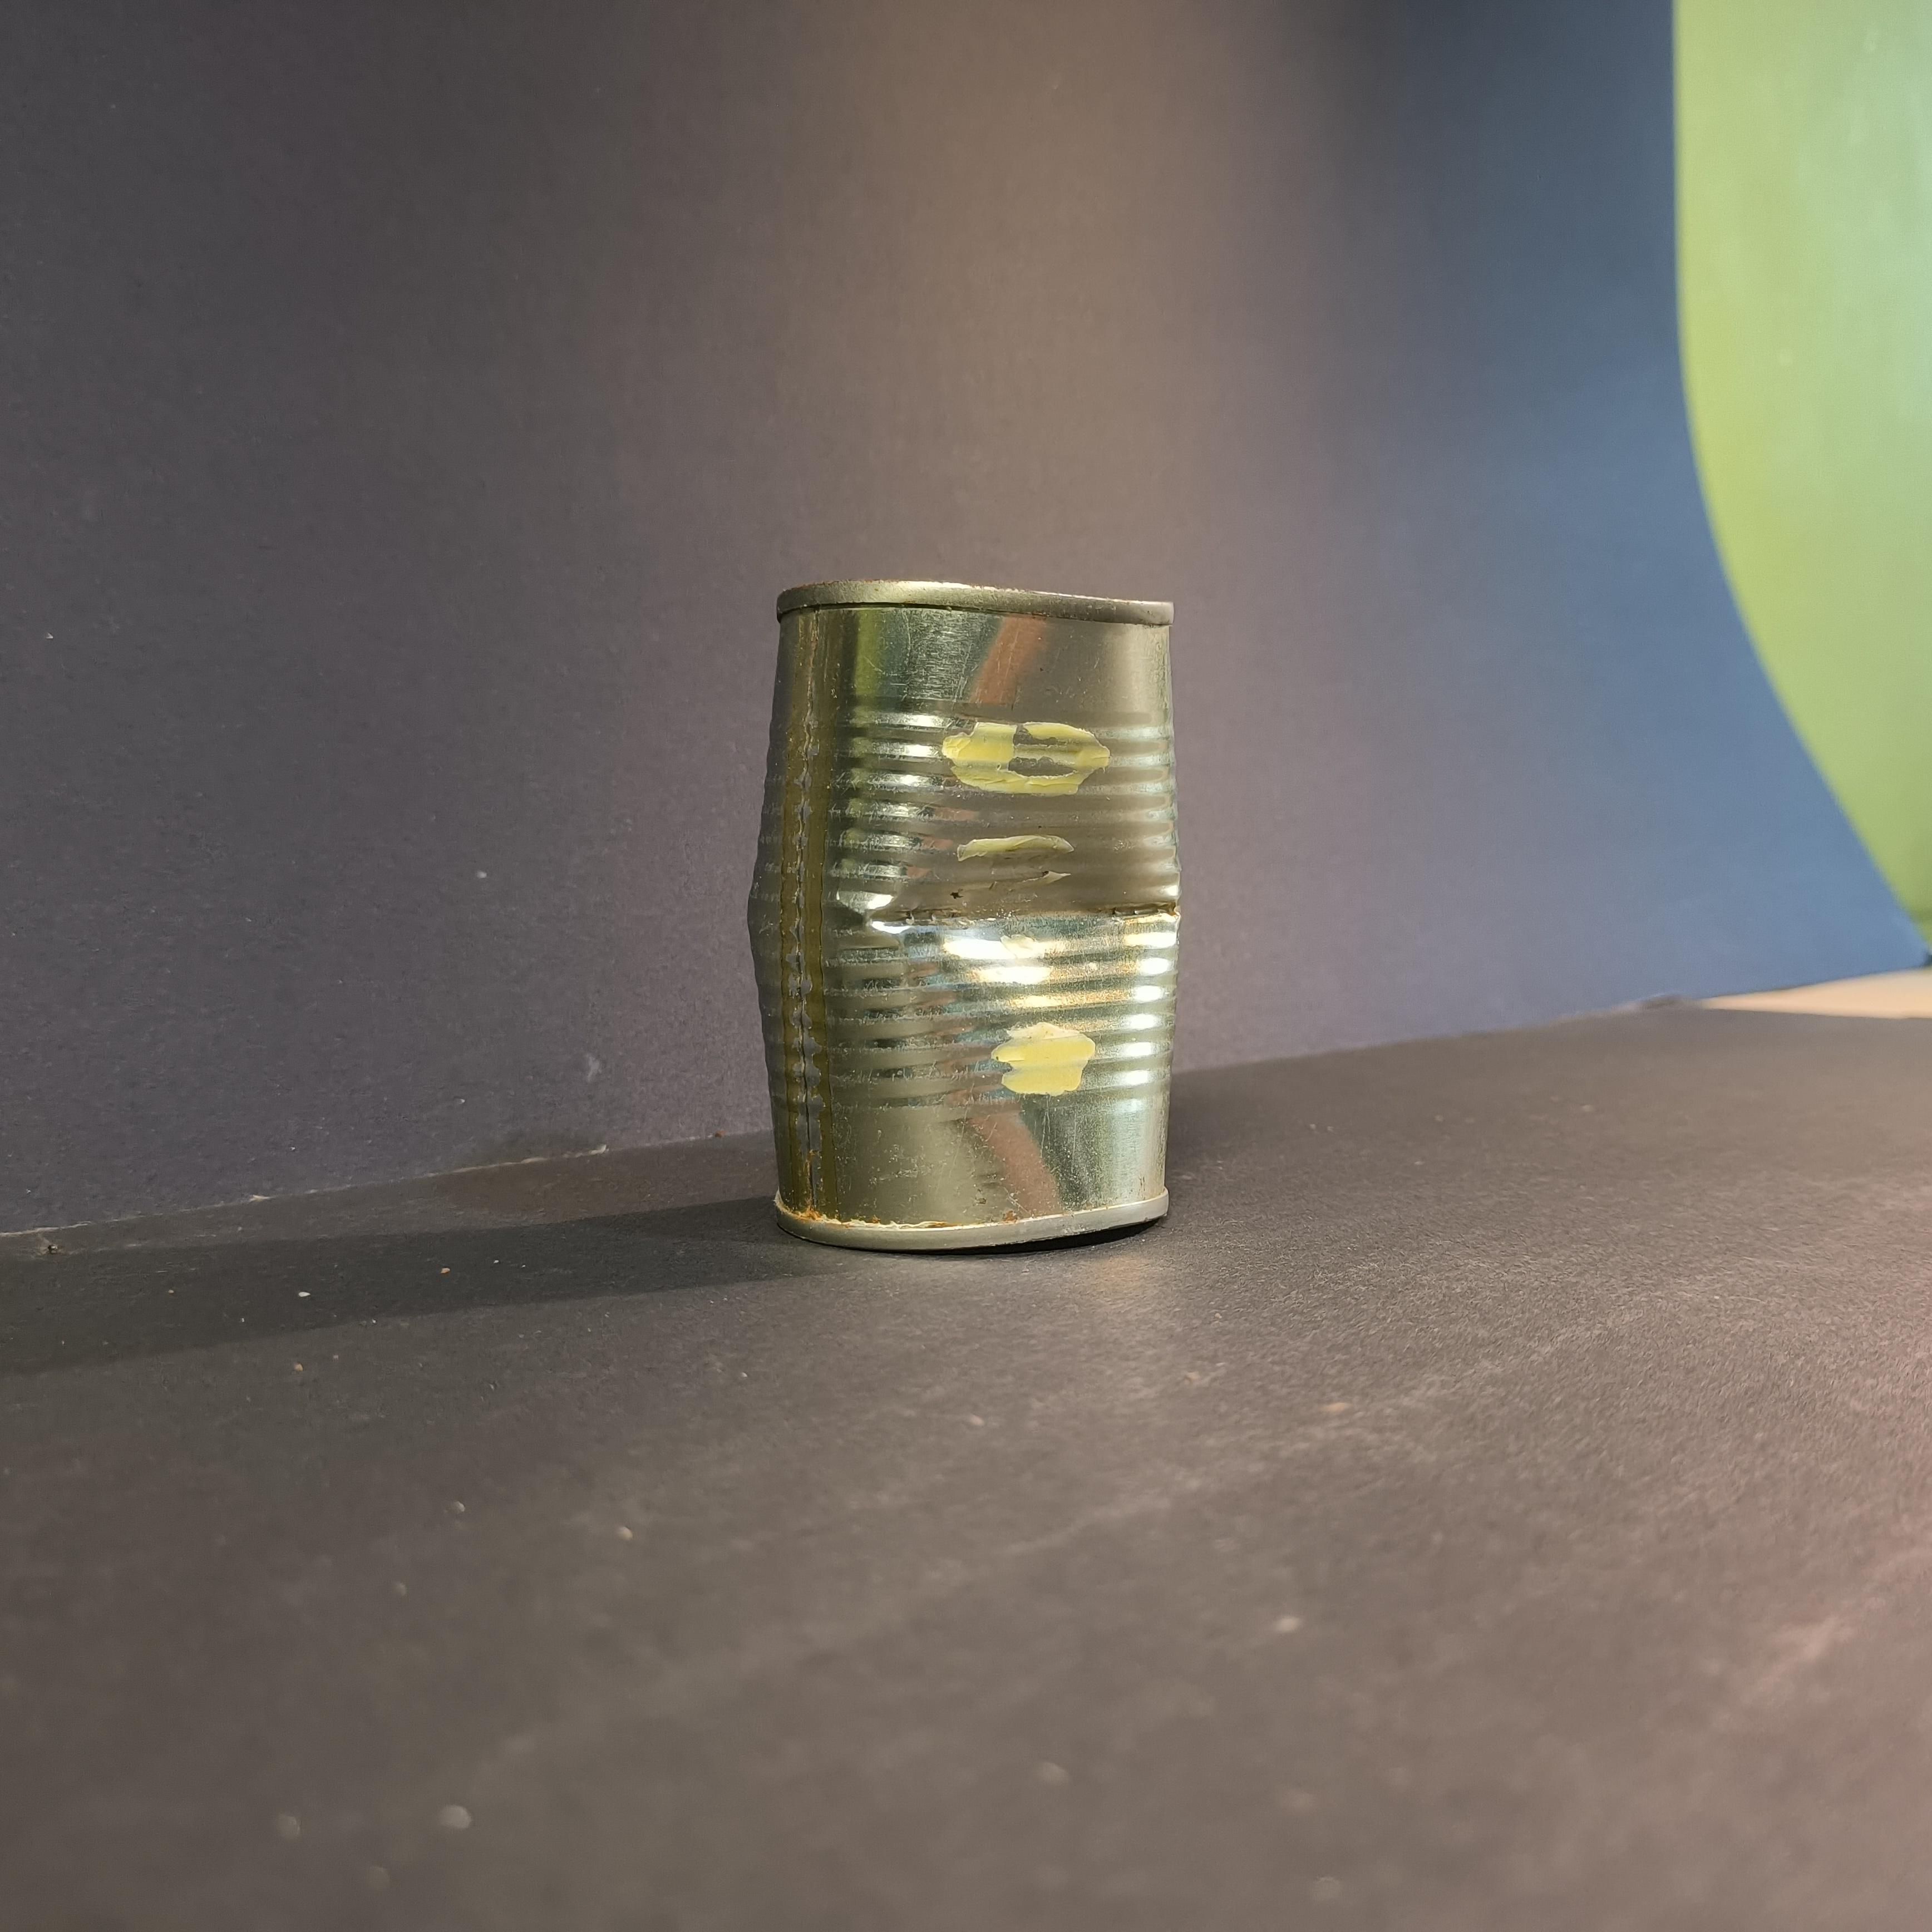Dented: (713, 557, 1247, 1267)
